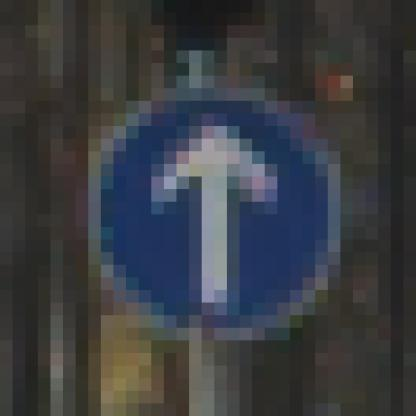straight: (88, 76, 353, 340)
